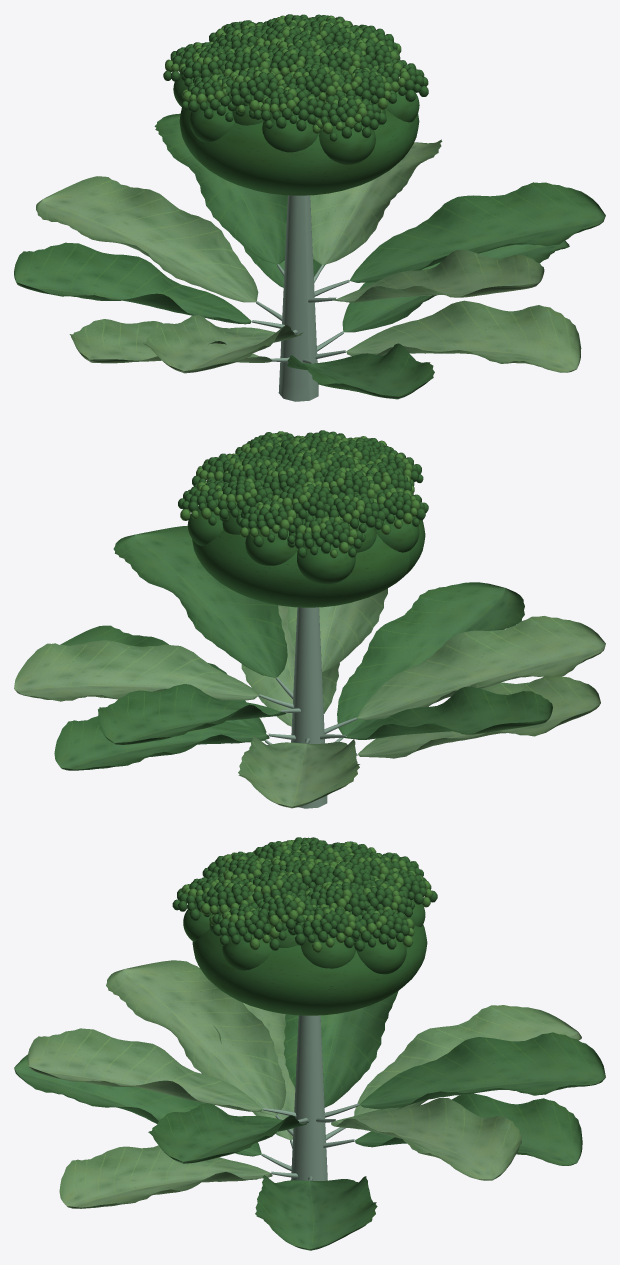
The model's file is broccoli-green-dragon.glb.
3 renders of one model, top to bottom at view 1: azimuth 30°, elevation 25°; view 2: azimuth 150°, elevation 25°; view 3: azimuth 270°, elevation 25°, orthographic. The views are drawn at different scales.
Visible parts, largest first — view 1: Broccoli · Green Dragon; view 2: Broccoli · Green Dragon; view 3: Broccoli · Green Dragon.
Part boxes in pixels (x1,y1,x2,y2): Broccoli · Green Dragon: (14, 14, 605, 401); Broccoli · Green Dragon: (14, 430, 605, 808); Broccoli · Green Dragon: (14, 837, 605, 1250).
Size of the model in its own units: 0.6632 by 0.4226 by 0.6554.
Materials: 4 (3 with a texture image).
